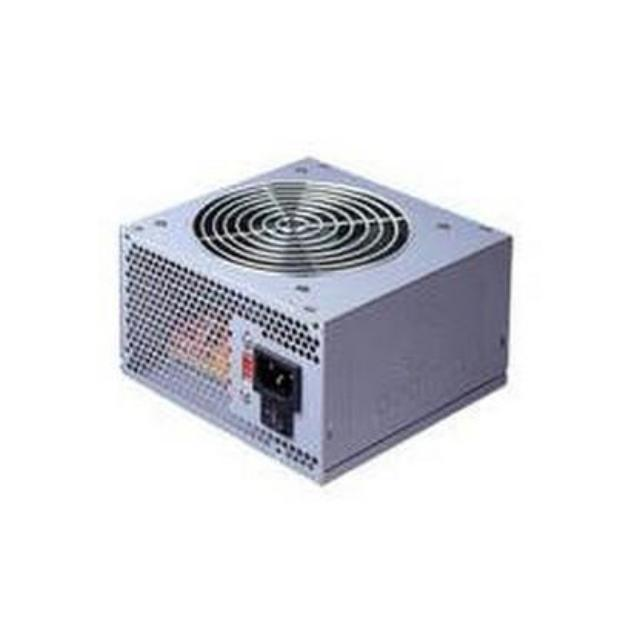PSU: (89, 144, 546, 498)
